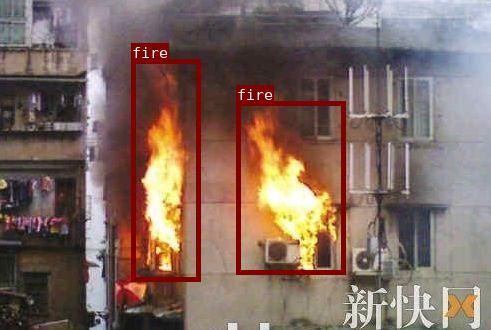fire: (235, 101, 345, 273), (131, 59, 199, 280)
